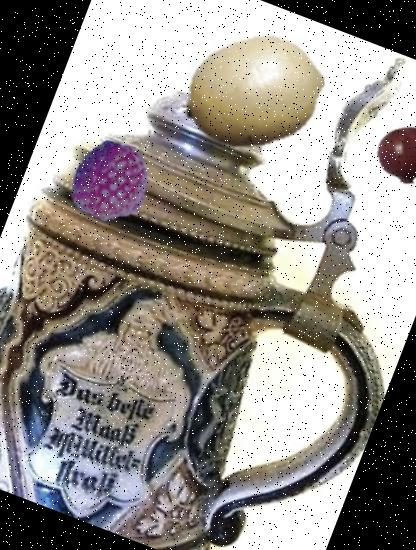Lemon: (160, 0, 345, 185)
Pomegranate: (367, 117, 416, 195)
Raspberry: (59, 132, 161, 234)
